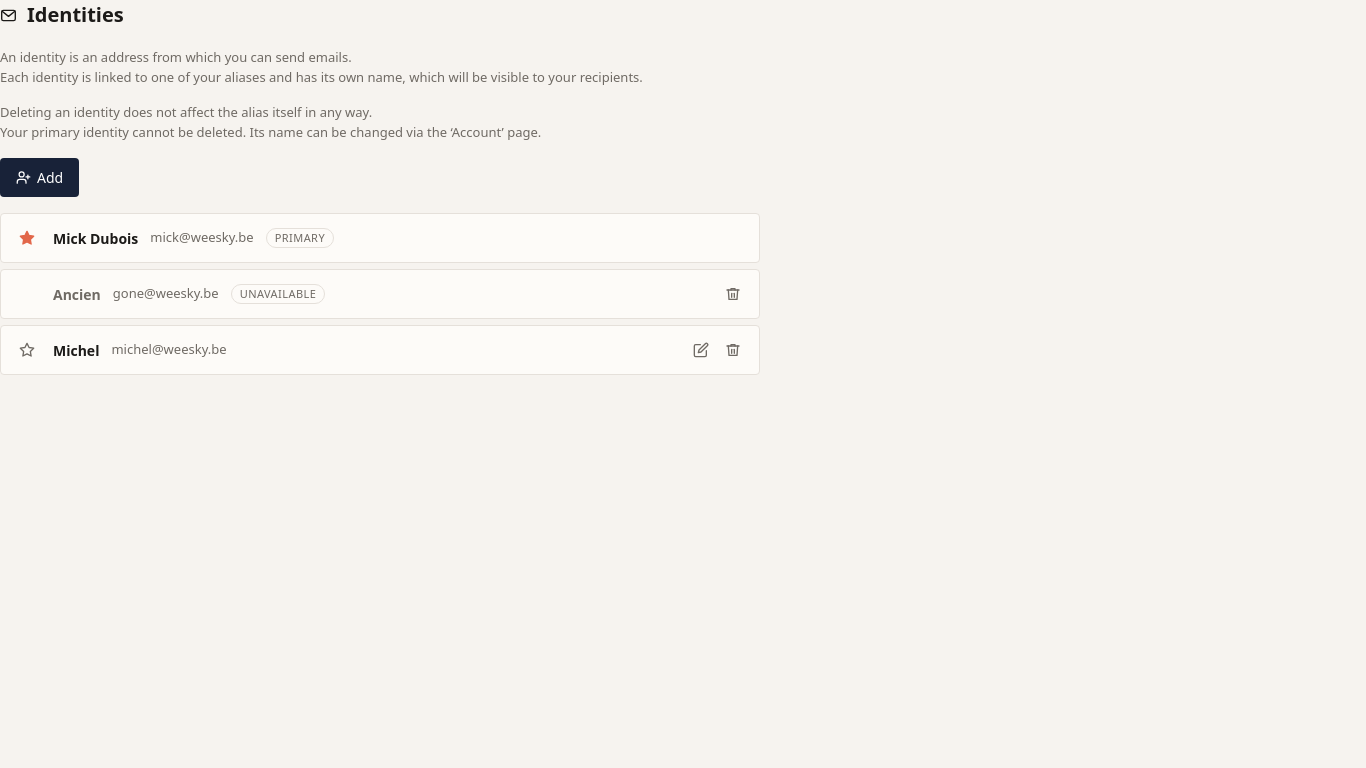
Test: IdentitiesPage › adds the alias picked in the dialog and closes it
The width and height of the screenshot is (1366, 768).
Click the button with aria-label "Add identity".
click(40, 178)  # box [0, 158, 79, 197]
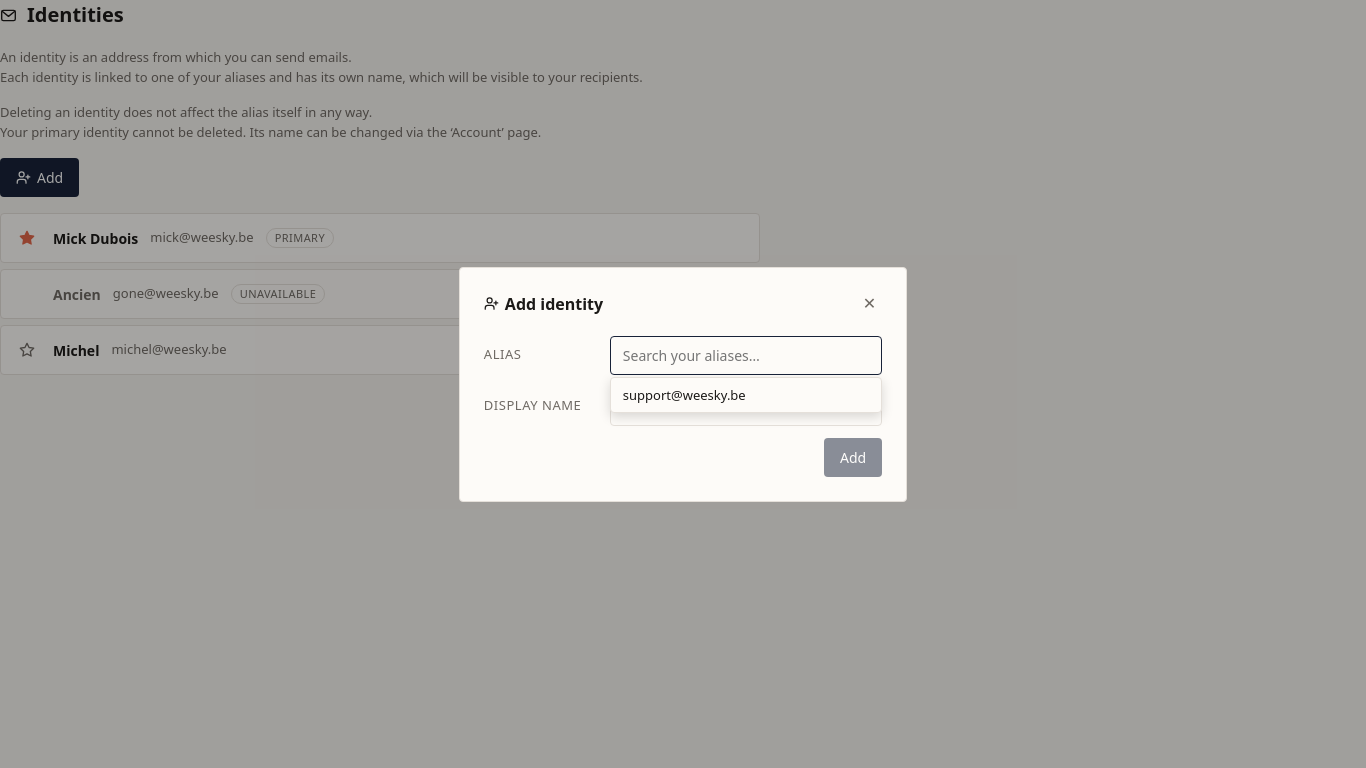
Type "support" into the field labelled "Alias".
click(746, 355); type("support")  # box [610, 336, 882, 374]
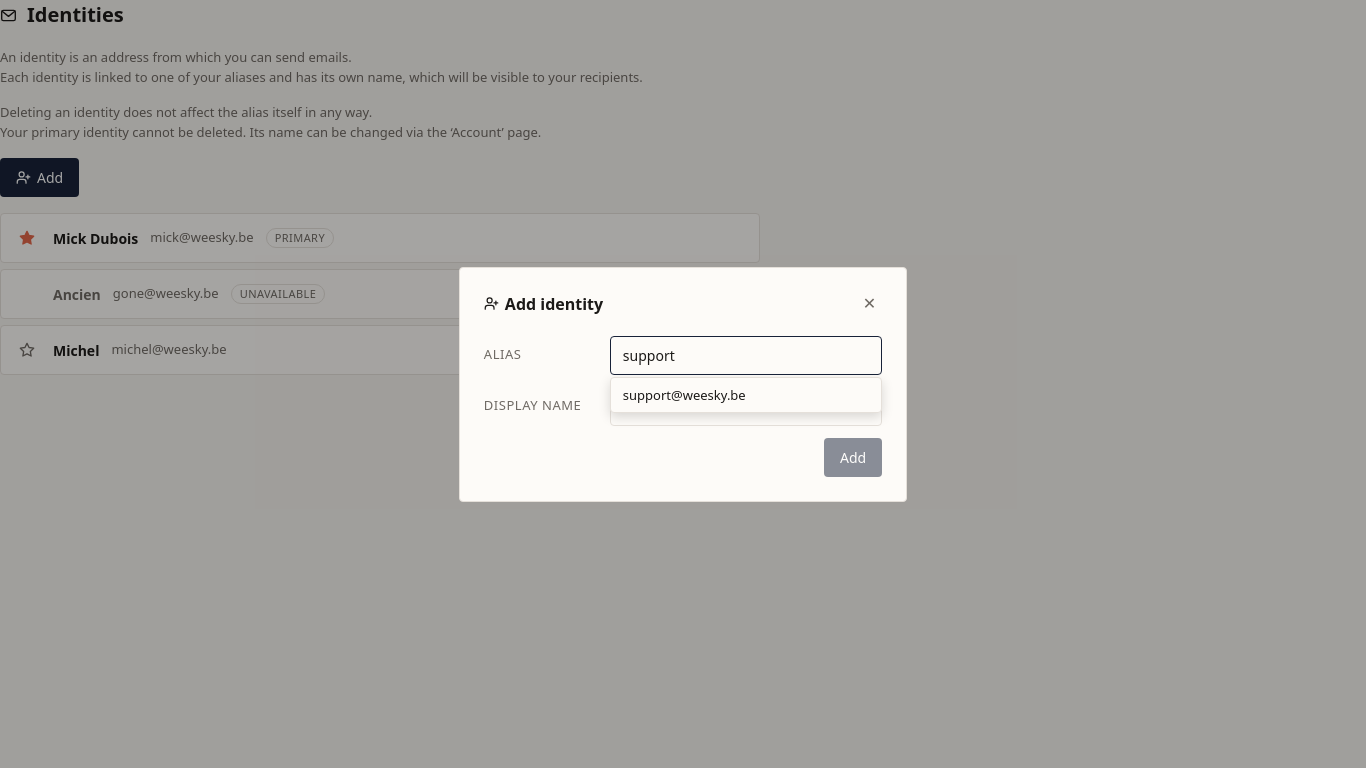
Press the mouse on the button "support@weesky.be" at (746, 394), box [611, 378, 881, 412]
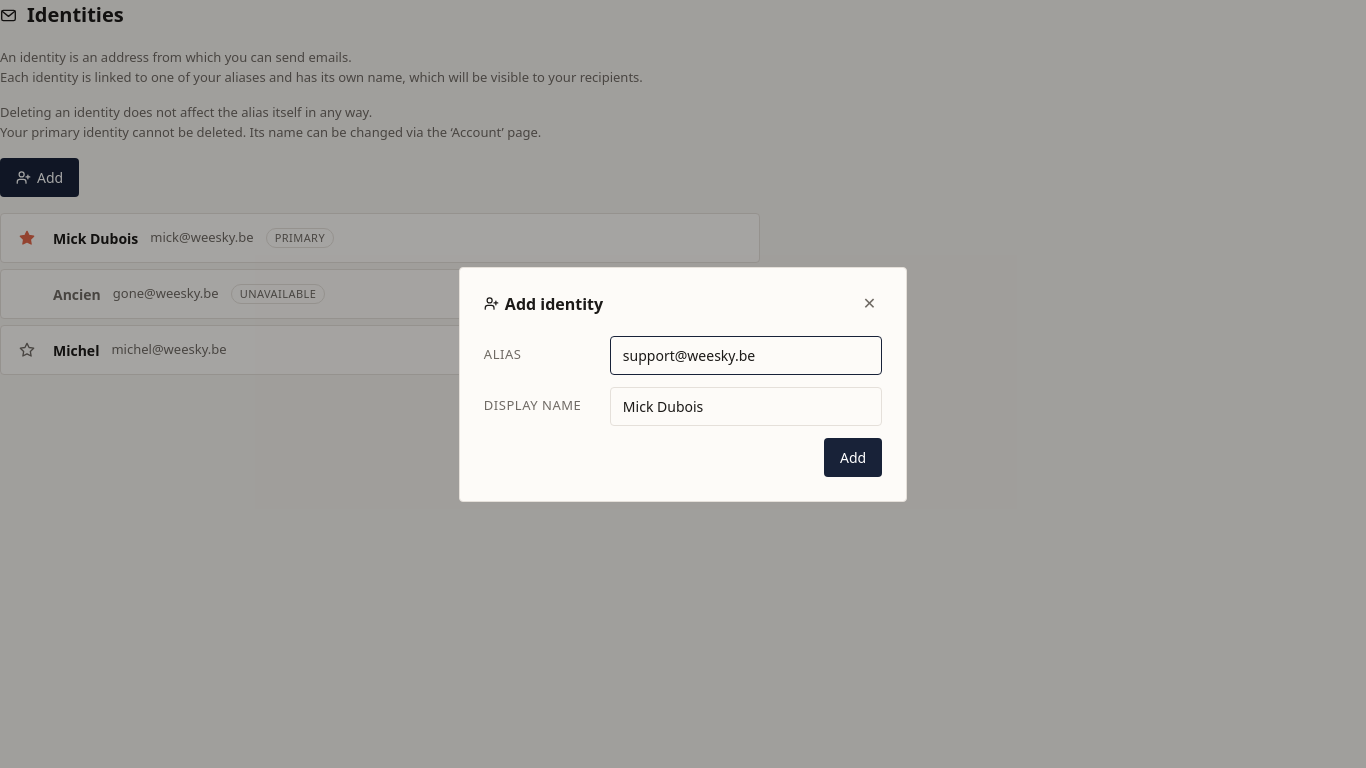
Click the button "Add".
click(853, 457)  # box [824, 438, 882, 476]
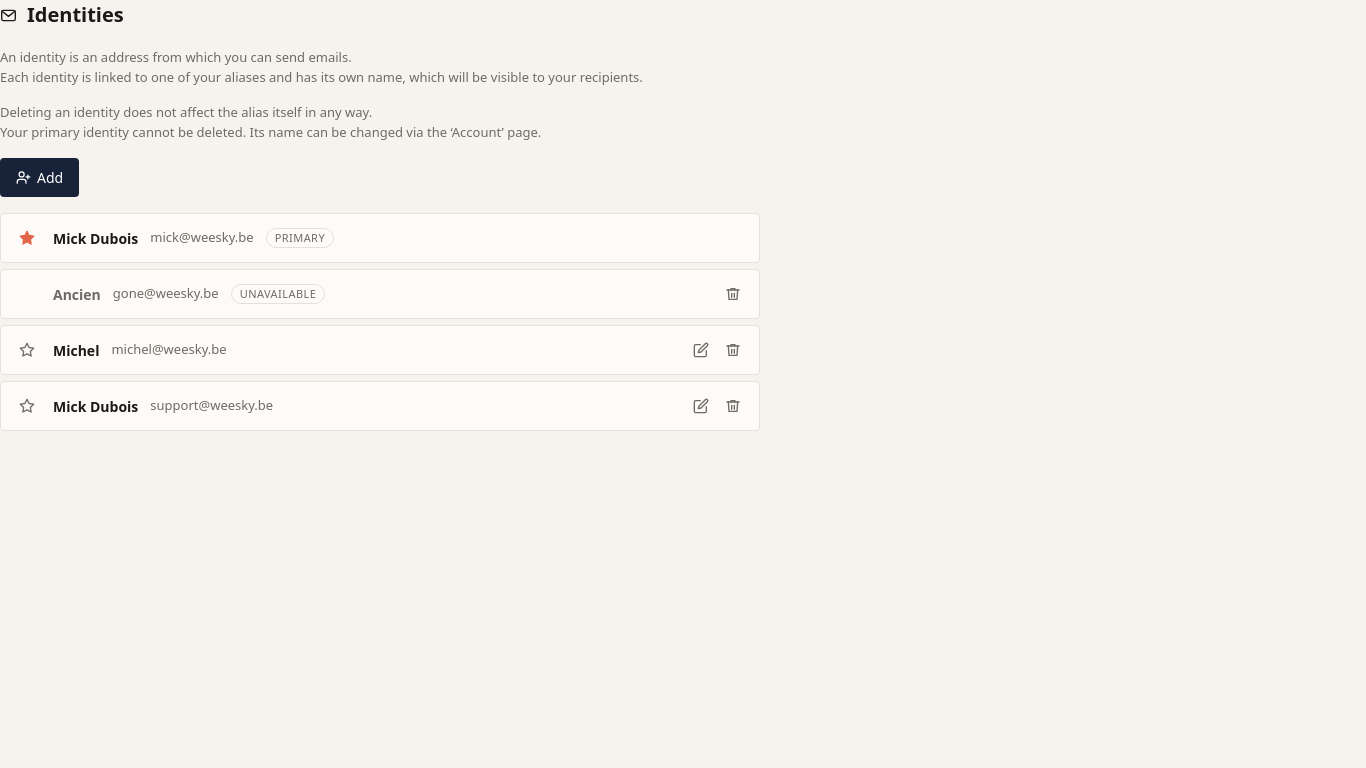
Expected: the text "Add identity" is gone
